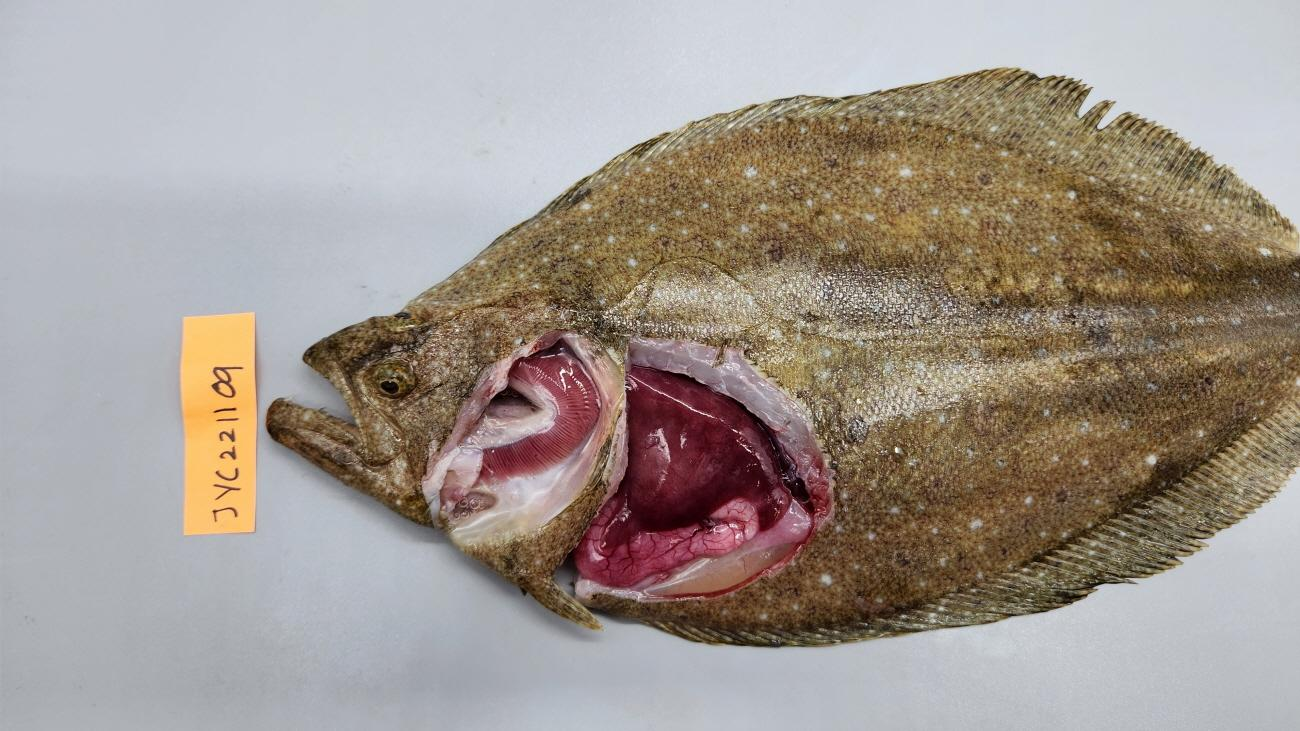SPLIC: (656, 490, 663, 499)
